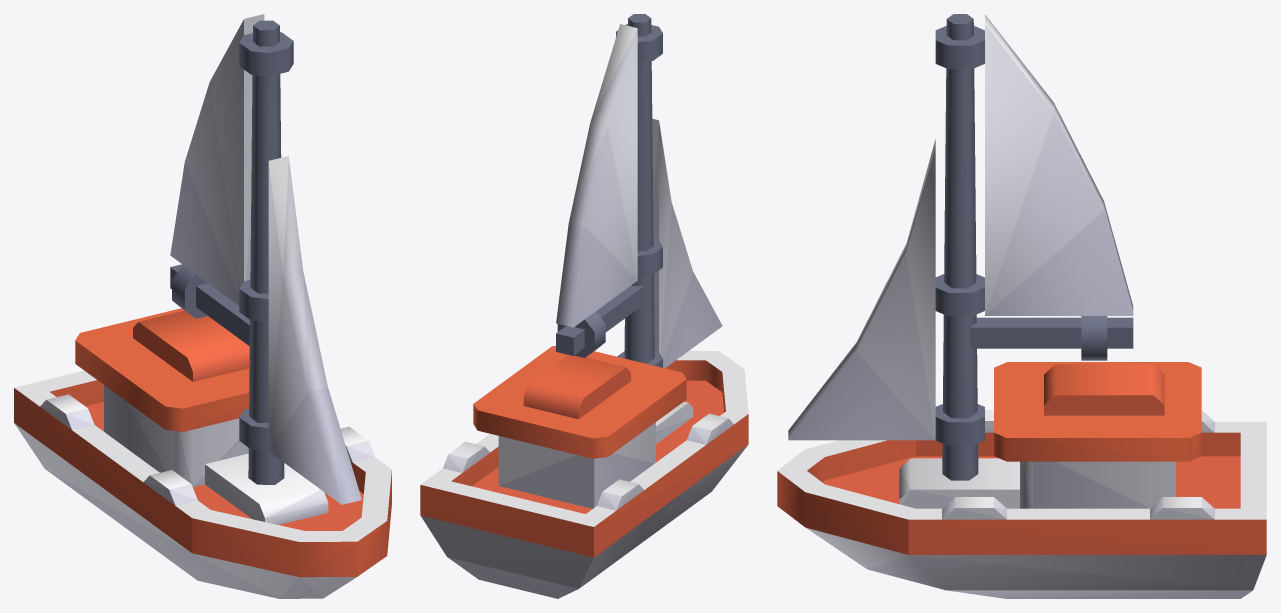
3 views of the same model, side by side, from view 1: azimuth 30°, elevation 25°; view 2: azimuth 150°, elevation 25°; view 3: azimuth 270°, elevation 25° (orthographic). The views are drawn at different scales.
Parts seen in each view (by area): view 1: boat-sail-a, sail; view 2: boat-sail-a, sail; view 3: boat-sail-a, sail.
Part boxes in pixels (x1,y1,x2,y2): boat-sail-a: [14, 308, 391, 598]; sail: [170, 14, 361, 504]; boat-sail-a: [420, 346, 748, 598]; sail: [556, 14, 722, 368]; boat-sail-a: [777, 362, 1266, 598]; sail: [788, 14, 1133, 480].
Size of the model in its own units: 3.01 by 8 by 6.36.
